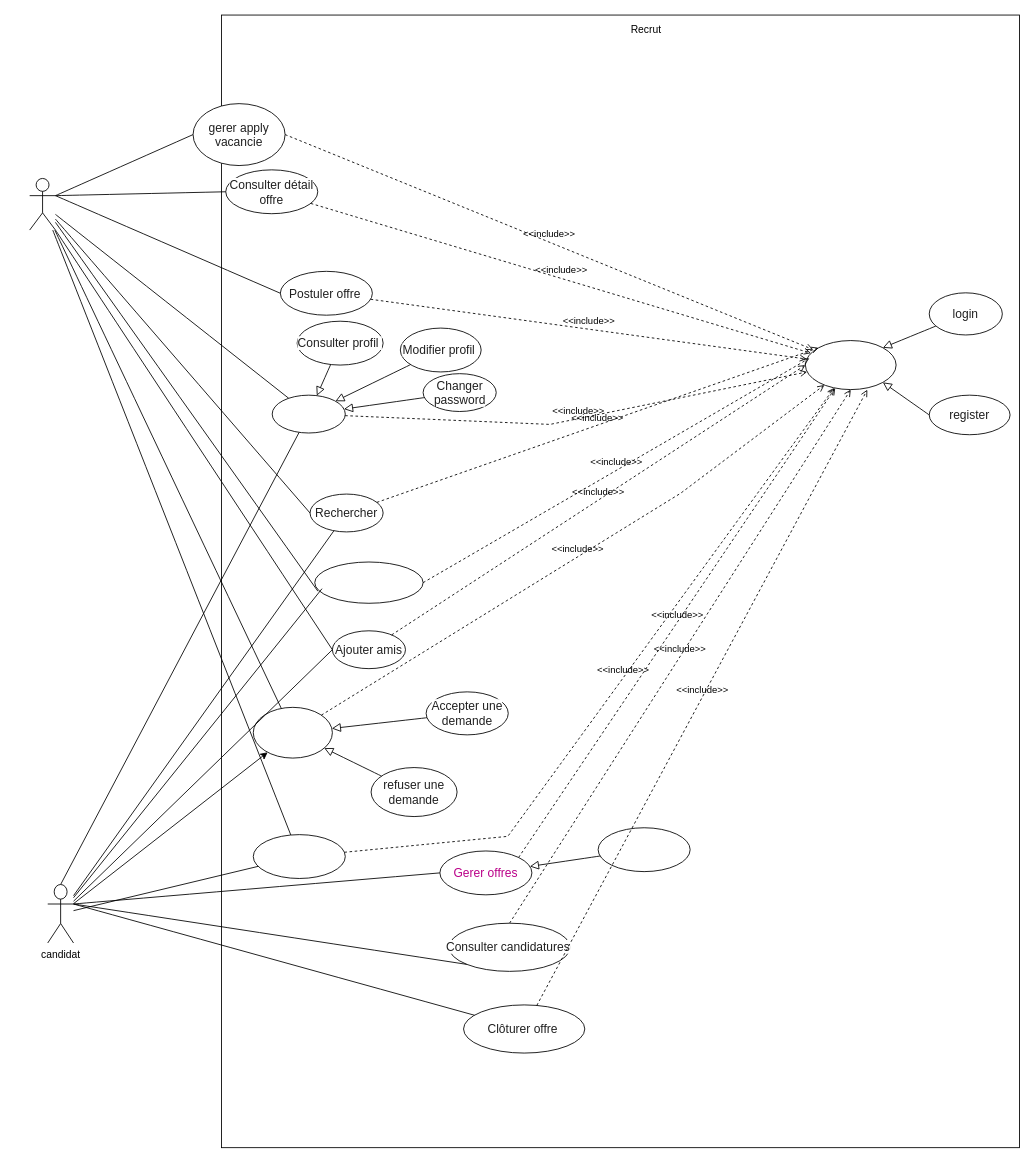
This 1035x1163 diagram has some shape labels left out. Here are the shapes that lost their labels. From the top down, the centre of each, then its label:
At point 42,204: "Rectruteur".
At point 850,365: "authentification".
At point 308,413: "gerer profil".
At point 368,582: "Consulter profil dun user".
At point 292,732: "gerer demande".
At point 298,856: "resevoir une notifications".
At point 643,849: "creer offres".
